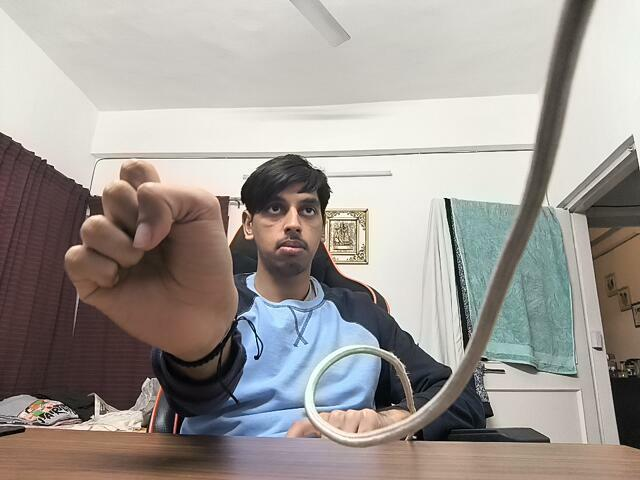DOWN: (42, 152, 264, 359)
